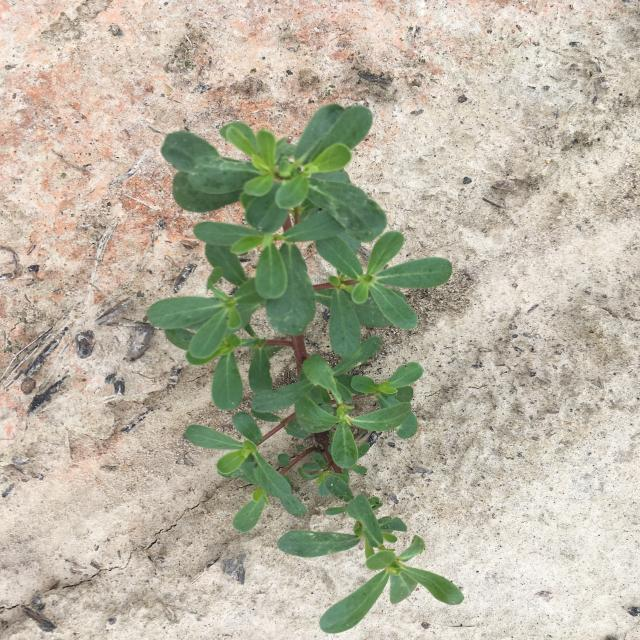Purslane: (146, 105, 466, 634)
